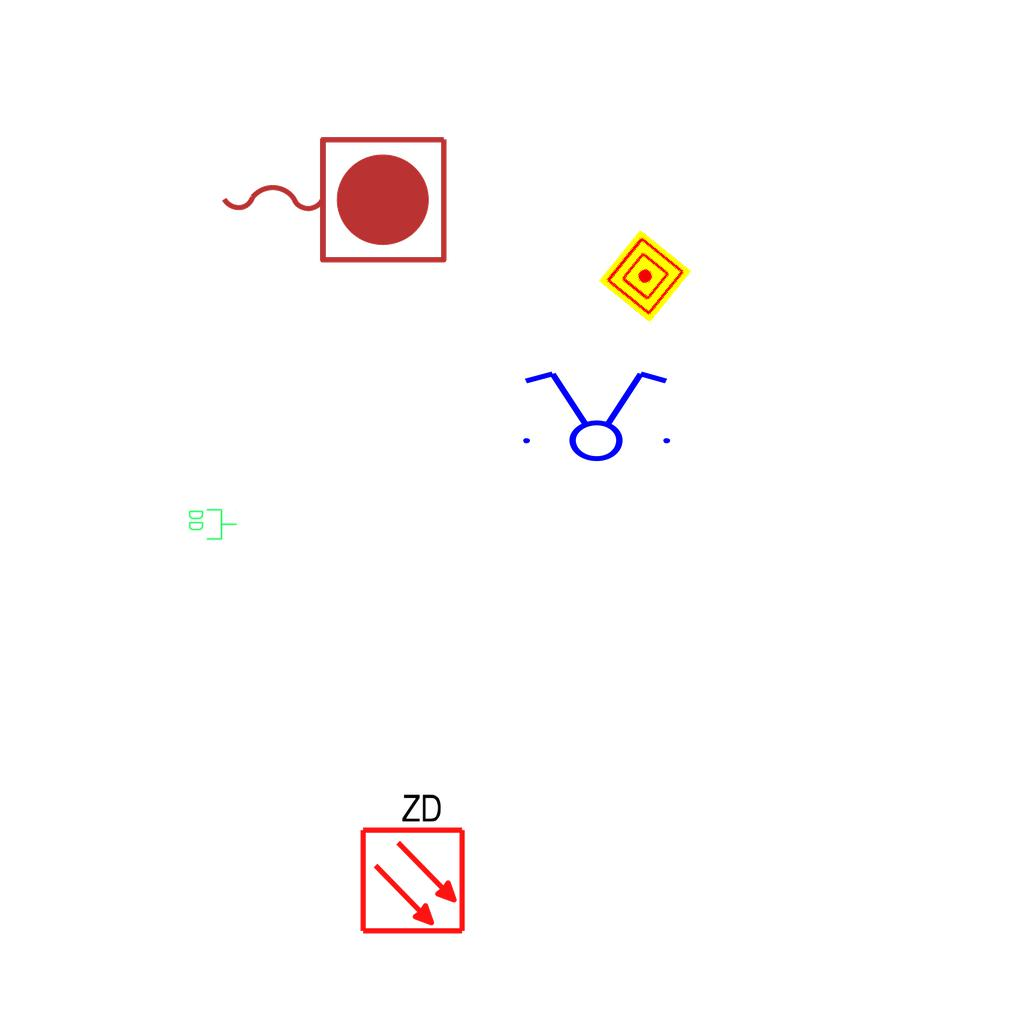Datenanschluss_zweifach: (187, 507, 238, 541)
NAM-Nichtautomatischer_Melder: (598, 229, 692, 323)
Serienschalter: (511, 367, 679, 463)
ZD_Melder_in_Zwischendecke_mit_Revisionsoeffnung_mind_40_x_40_cm: (354, 787, 468, 936)
Zugtaster: (211, 126, 455, 270)
